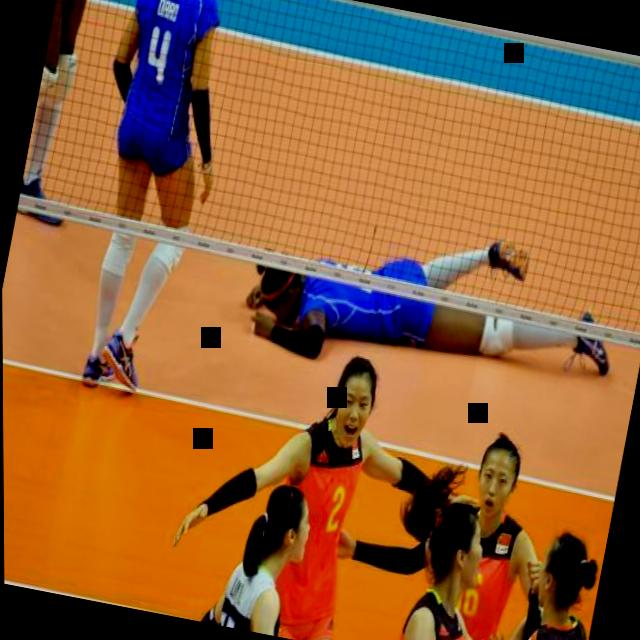Fall-Detected: (227, 198, 640, 406)
